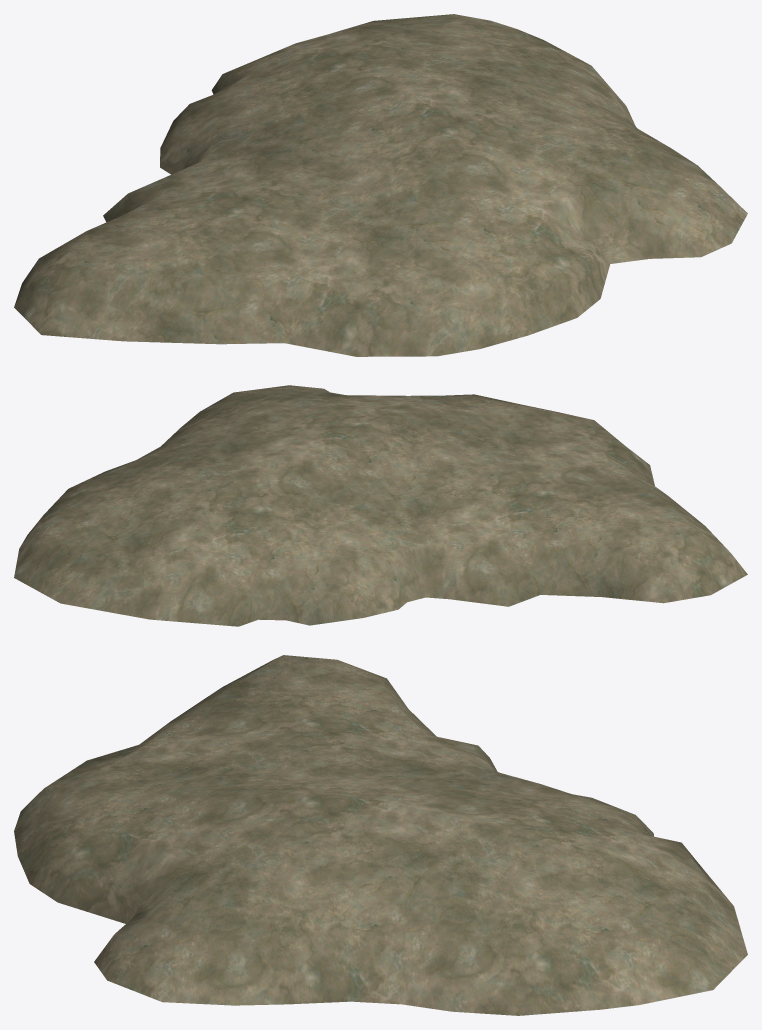
The model's file is OVERHILL_A_01_ML_CAVE_ROOF_01.fbx.
3 views of the same model, one above another, from view 1: azimuth 30°, elevation 25°; view 2: azimuth 150°, elevation 25°; view 3: azimuth 270°, elevation 25° (orthographic). The views are drawn at different scales.
Parts seen in each view (by area): view 1: OVERHILL_A_01_ML_CAVE_ROOF_01; view 2: OVERHILL_A_01_ML_CAVE_ROOF_01; view 3: OVERHILL_A_01_ML_CAVE_ROOF_01.
Boxes of the visible parts, x1,y1,x2,y2 form: OVERHILL_A_01_ML_CAVE_ROOF_01: (14, 14, 747, 356); OVERHILL_A_01_ML_CAVE_ROOF_01: (14, 385, 747, 626); OVERHILL_A_01_ML_CAVE_ROOF_01: (14, 655, 747, 1015).
Size of the model in its own units: 138494 by 16756 by 125319.
Materials: 1 (1 with a texture image).
